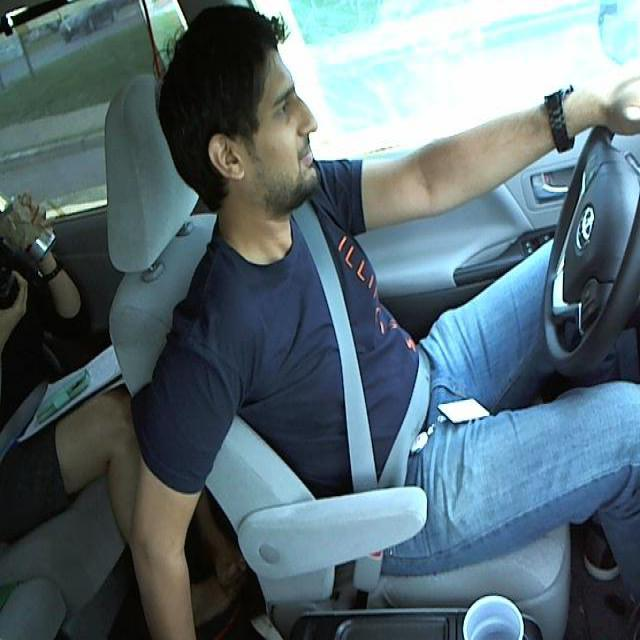seatbelt: (290, 219, 422, 476)
